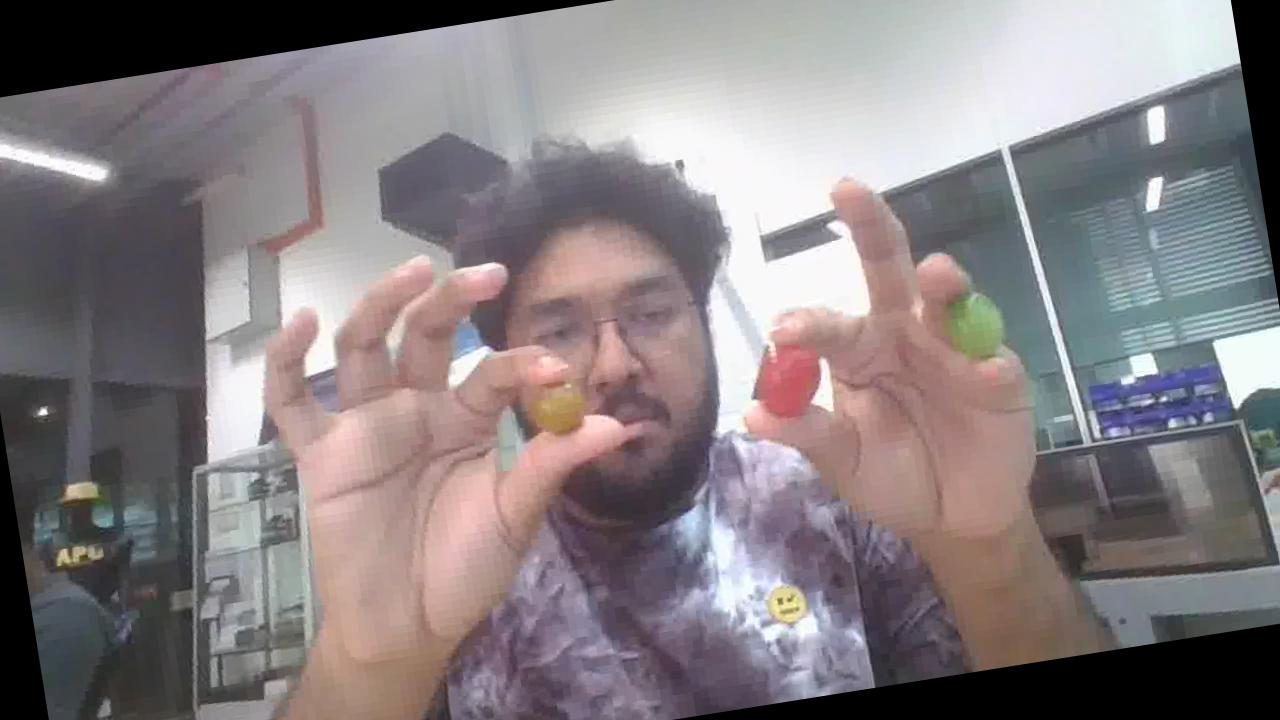green_cherry_tomato: (944, 291, 1004, 358)
red_cherry_tomato: (754, 343, 821, 416)
yellow_cherry_tomato: (527, 381, 585, 433)
